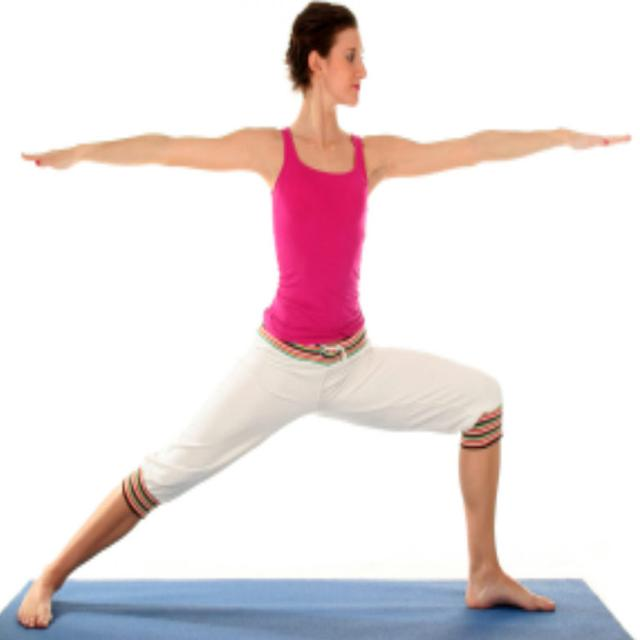Warrior_II: (7, 1, 632, 627)
